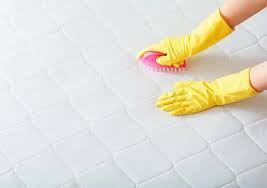bed-matress: (1, 1, 266, 188)
